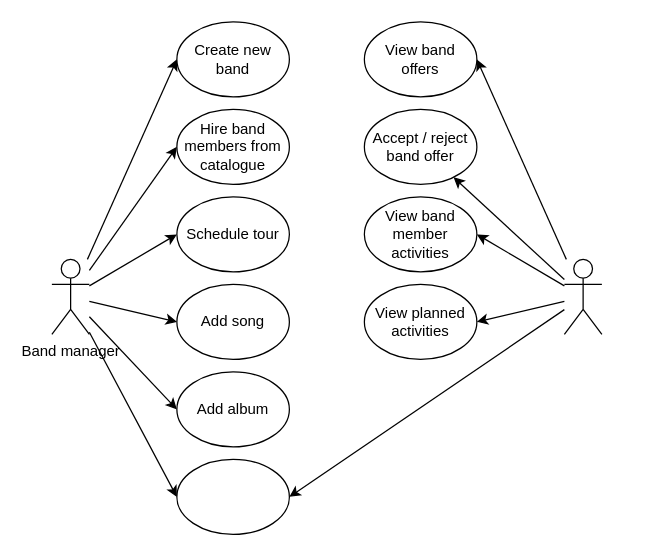
Image size: 651x556. Some labels were removed from this diagram. Each missing label, with the centre of its shape:
Band member: (x=582, y=296)
Login: (x=232, y=496)
